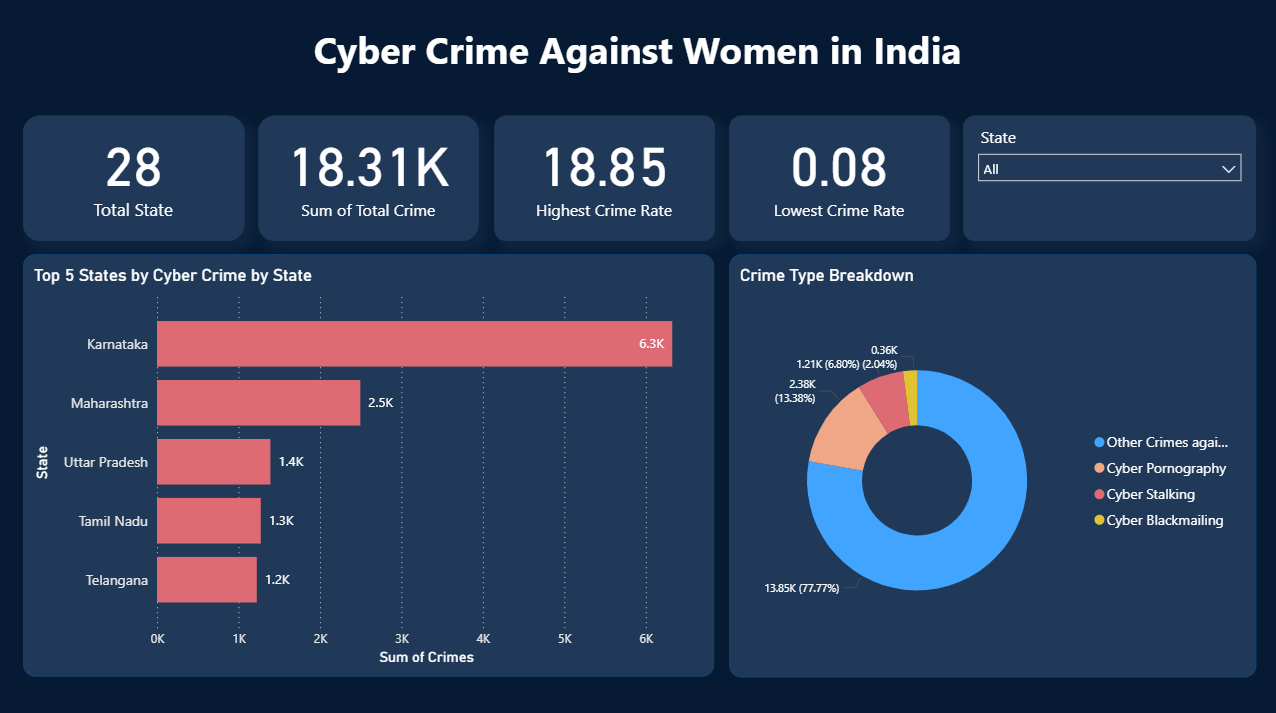

The page's visual inventory and layout, read from the dashboard file:
{"tool":"powerbi","page":{"name":"Page 1","canvas":[1280,720],"ordinal":0},"visuals":[{"type":"cardVisual","fields":{"Data":["Count(Crime Rate Per Lakh.State)"]},"box":[25.3,117,202.7,125.5],"z":0},{"type":"cardVisual","fields":{"Data":["Sum(Rank and Contribution.Total Crime)"]},"box":[259.4,117,214.7,125.5],"z":1000},{"type":"cardVisual","fields":{"Data":["Max(Crime Rate Per Lakh.Cyber Crime Rate per 1 Lakh Women)"]},"box":[506.7,117,201.5,125.5],"z":2000},{"type":"cardVisual","fields":{"Data":["Min(Crime Rate Per Lakh.Cyber Crime Rate per 1 Lakh Women)"]},"box":[743.2,117,202.7,125.5],"z":3000},{"type":"textbox","box":[296.7,21.7,686.7,66.7],"z":4000},{"type":"barChart","fields":{"Category":["Raw Data.State"],"Y":["Sum(Raw Data.Total Crimes)"]},"box":[25.7,255.7,682.9,422.9],"z":5000},{"type":"donutChart","title":"Crime Type Breakdown","fields":{"Category":["Raw Data.Attribute"],"Y":["Sum(Raw Data.Total Crimes)"]},"box":[743.2,255.8,515.2,423.5],"z":6000},{"type":"slicer","fields":{"Values":["Rank and Contribution.State"]},"box":[979.6,117,278.7,125.5],"z":8000}]}

Visuals, with their boxes in screenshot pixels (x1, y1, x2, y2), scaled from the page's 1280x720 canvas onto the 1276x713 screenshot:
cardVisual - Count(Crime Rate Per Lakh.State): (25, 116, 227, 240)
cardVisual - Sum(Rank and Contribution.Total Crime): (259, 116, 473, 240)
cardVisual - Max(Crime Rate Per Lakh.Cyber Crime Rate per 1 Lakh Women): (505, 116, 706, 240)
cardVisual - Min(Crime Rate Per Lakh.Cyber Crime Rate per 1 Lakh Women): (741, 116, 943, 240)
textbox: (296, 21, 980, 88)
barChart - Raw Data.State x Sum(Raw Data.Total Crimes): (26, 253, 706, 672)
"Crime Type Breakdown" donutChart: (741, 253, 1254, 673)
slicer - Rank and Contribution.State: (977, 116, 1254, 240)
